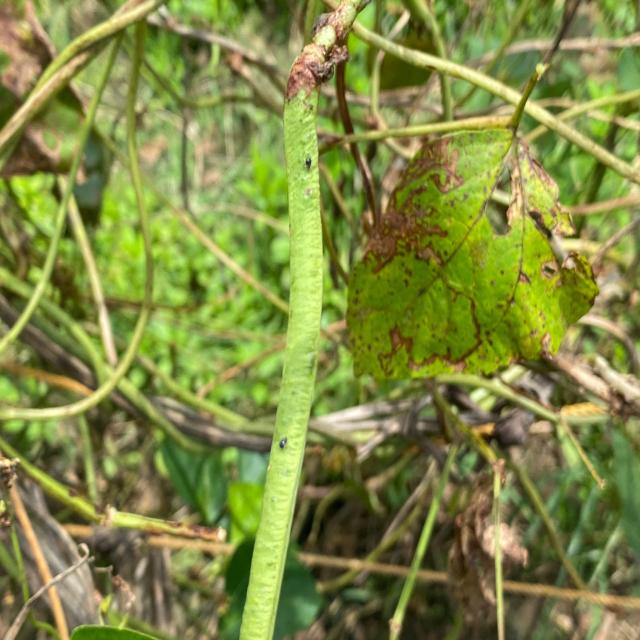leaf-moderate: (347, 127, 598, 380)
sitaw-healthy: (239, 0, 370, 640)
